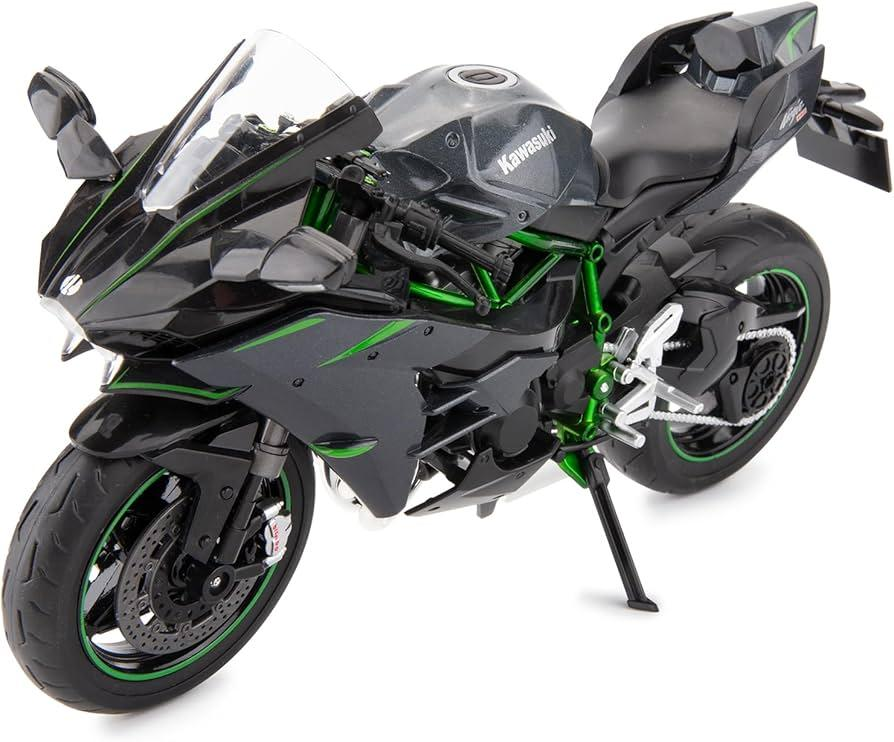motorcycle: (1, 2, 894, 724)
